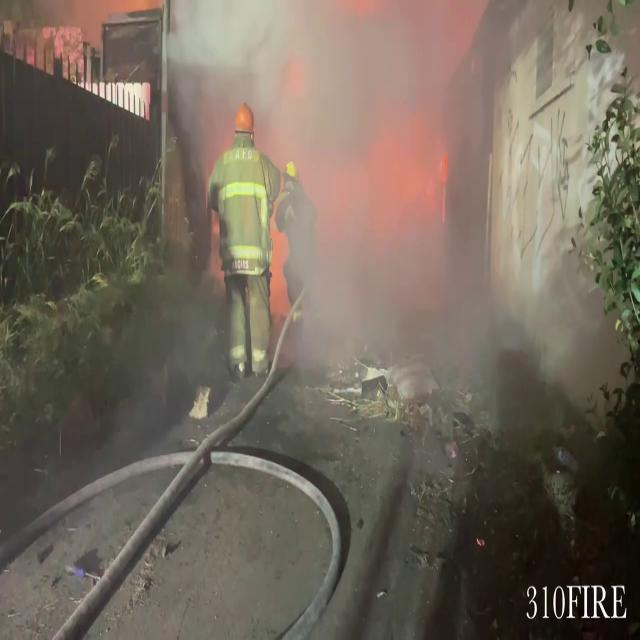Smoke: (155, 0, 609, 465)
